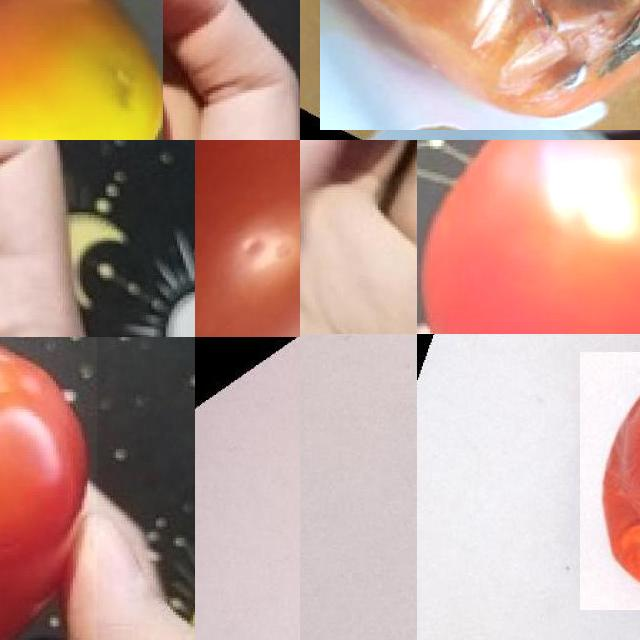1: (320, 0, 640, 130)
Fresh Tomato: (417, 140, 640, 334), (0, 337, 97, 640), (195, 140, 300, 337)
Rotten Tomato: (0, 0, 162, 140), (580, 352, 640, 610)
